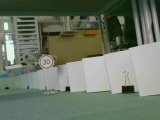speed_30: (38, 54, 54, 69)
